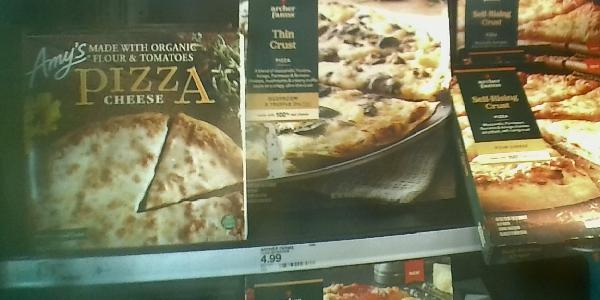pizza1: (12, 32, 248, 246), (241, 1, 462, 210)
